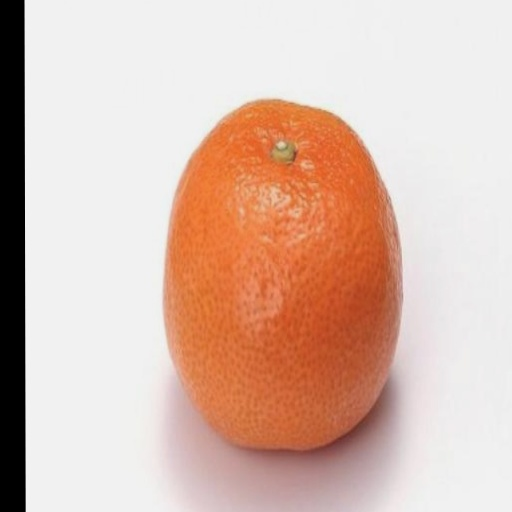fruit: (164, 101, 401, 450)
